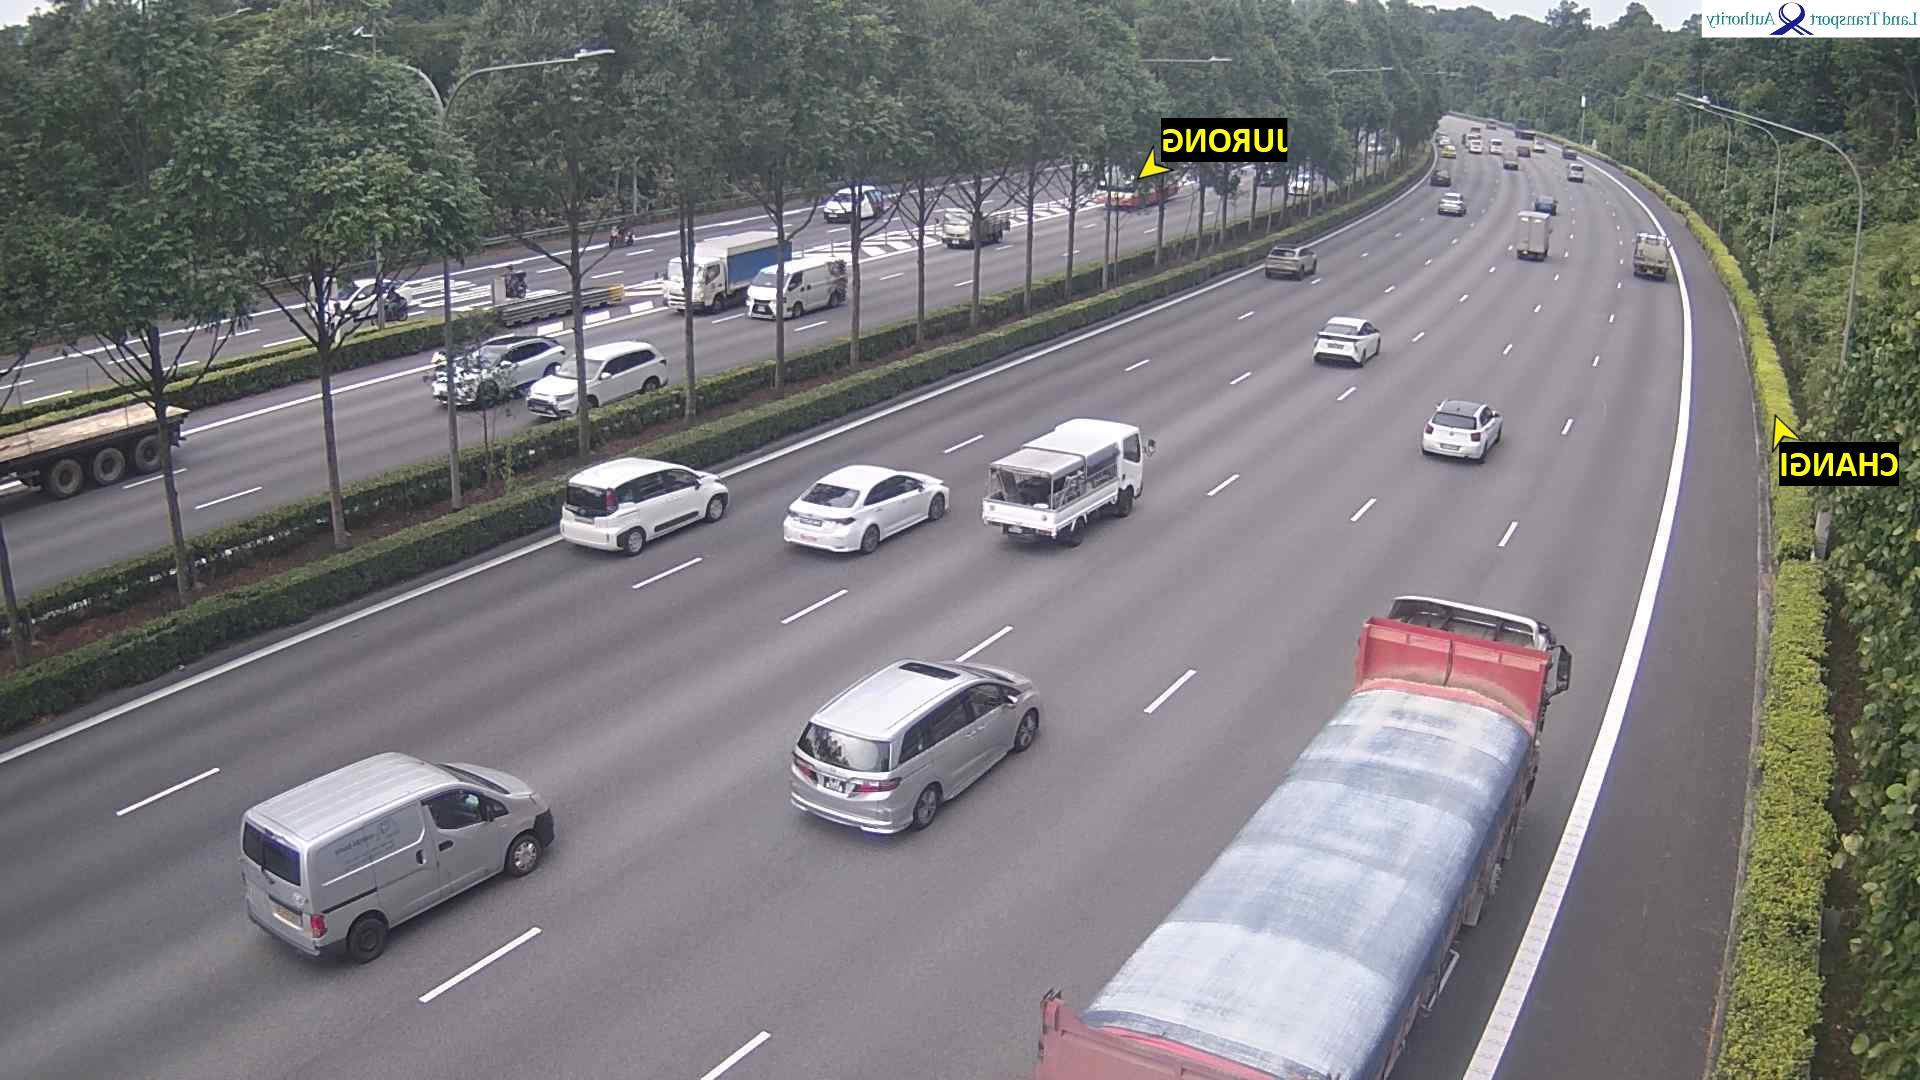bus: (1087, 150, 1182, 204)
cars: (239, 749, 556, 964), (790, 655, 1044, 837), (981, 415, 1158, 546), (560, 455, 731, 556), (782, 462, 952, 554), (527, 338, 670, 419), (433, 334, 567, 407), (746, 255, 851, 320), (1422, 397, 1505, 462), (332, 276, 413, 323), (1313, 315, 1383, 365), (824, 185, 886, 223), (1265, 243, 1317, 280), (1288, 167, 1338, 195), (1437, 190, 1468, 215), (1535, 194, 1559, 215), (1257, 167, 1280, 186), (1429, 167, 1453, 185), (1568, 161, 1586, 181), (1466, 137, 1485, 153), (1443, 141, 1458, 158), (1490, 136, 1505, 153), (1503, 156, 1520, 170), (1433, 131, 1451, 145), (1563, 146, 1578, 161), (1534, 138, 1547, 153)
motorcycle: (375, 285, 406, 328), (605, 211, 641, 249), (496, 264, 526, 302), (1461, 133, 1468, 145)
trucks: (1035, 593, 1573, 1077), (1, 398, 193, 498), (662, 228, 786, 314), (938, 207, 1004, 248), (1633, 229, 1669, 280), (1516, 210, 1552, 260), (1514, 119, 1539, 138), (1468, 125, 1481, 138), (1485, 119, 1497, 129)
